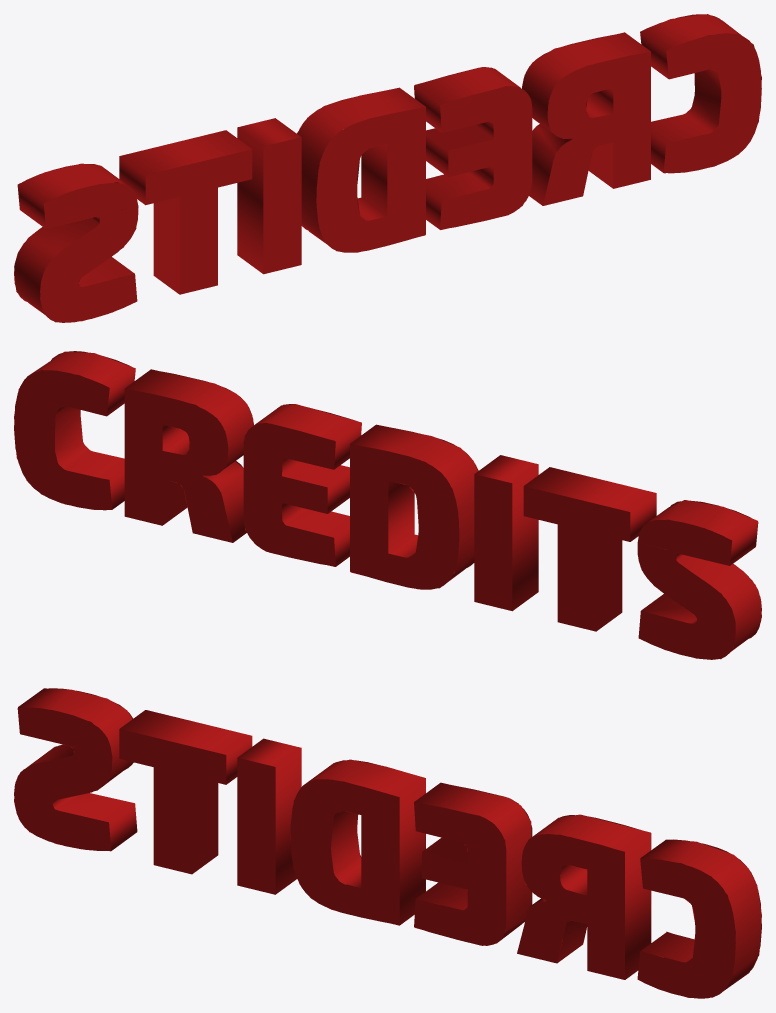
The model's file is credits.fbx.
3 renders of one model, top to bottom at view 1: azimuth 30°, elevation 25°; view 2: azimuth 150°, elevation 25°; view 3: azimuth 330°, elevation 25°, orthographic.
Visible parts, largest first — view 1: Text; view 2: Text; view 3: Text.
Part boxes in pixels (x1,y1,x2,y2): Text: (14, 14, 761, 322); Text: (14, 351, 761, 659); Text: (14, 688, 761, 998).
Bounding box in the file's own units: 12.77 × 2.26 × 0.8.
